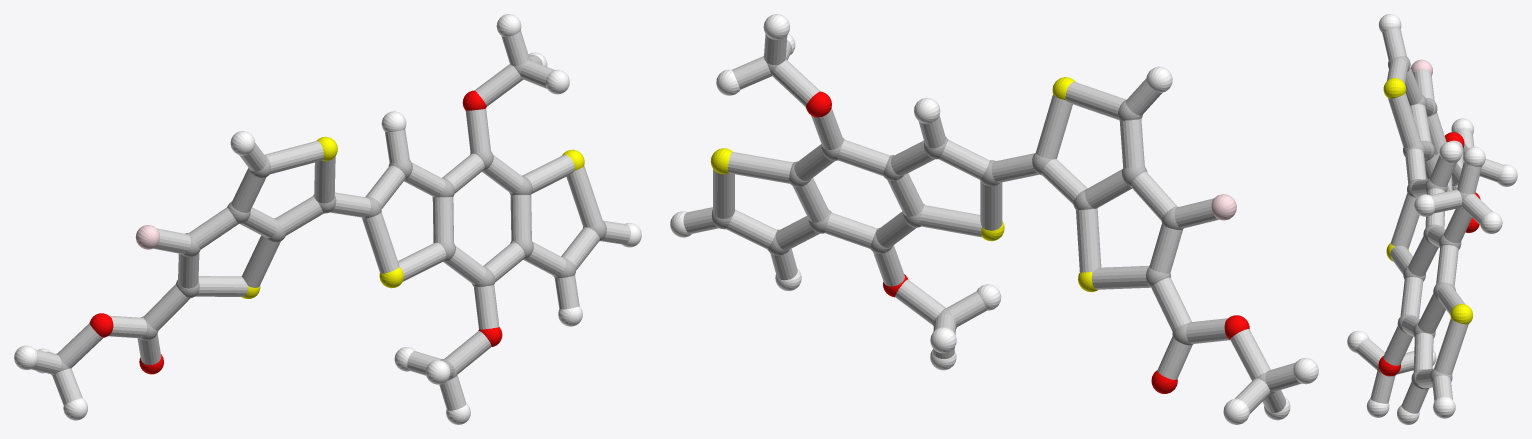
The model's file is color.glb.
The picture shows the model from 3 angles, left to right: view 1: azimuth 30°, elevation 25°; view 2: azimuth 150°, elevation 25°; view 3: azimuth 270°, elevation 25°; orthographic projection. The views are drawn at different scales.
Parts seen in each view (by area): view 1: grp15205, grp8689, grp1, grp13395, grp7241; view 2: grp15205, grp8689, grp1, grp13395, grp7241; view 3: grp15205, grp8689, grp1, grp7241, grp13395, grp14843.
Boxes of the visible parts, left/top/right/bottom form: grp15205: left=31, top=30, right=630, bottom=410; grp8689: left=14, top=14, right=641, bottom=424; grp1: left=51, top=59, right=606, bottom=379; grp13395: left=89, top=90, right=502, bottom=374; grp7241: left=242, top=136, right=584, bottom=298; grp15205: left=683, top=34, right=1301, bottom=414; grp8689: left=670, top=14, right=1318, bottom=424; grp1: left=711, top=56, right=1274, bottom=395; grp13395: left=806, top=91, right=1249, bottom=393; grp7241: left=710, top=77, right=1098, bottom=292; grp15205: left=1356, top=28, right=1503, bottom=413; grp8689: left=1347, top=14, right=1517, bottom=424; grp1: left=1377, top=56, right=1475, bottom=389; grp7241: left=1383, top=78, right=1472, bottom=324; grp13395: left=1378, top=132, right=1480, bottom=376; grp14843: left=1411, top=59, right=1432, bottom=75.
Size of the model in its own units: 17.17 by 9.21 by 4.52.
